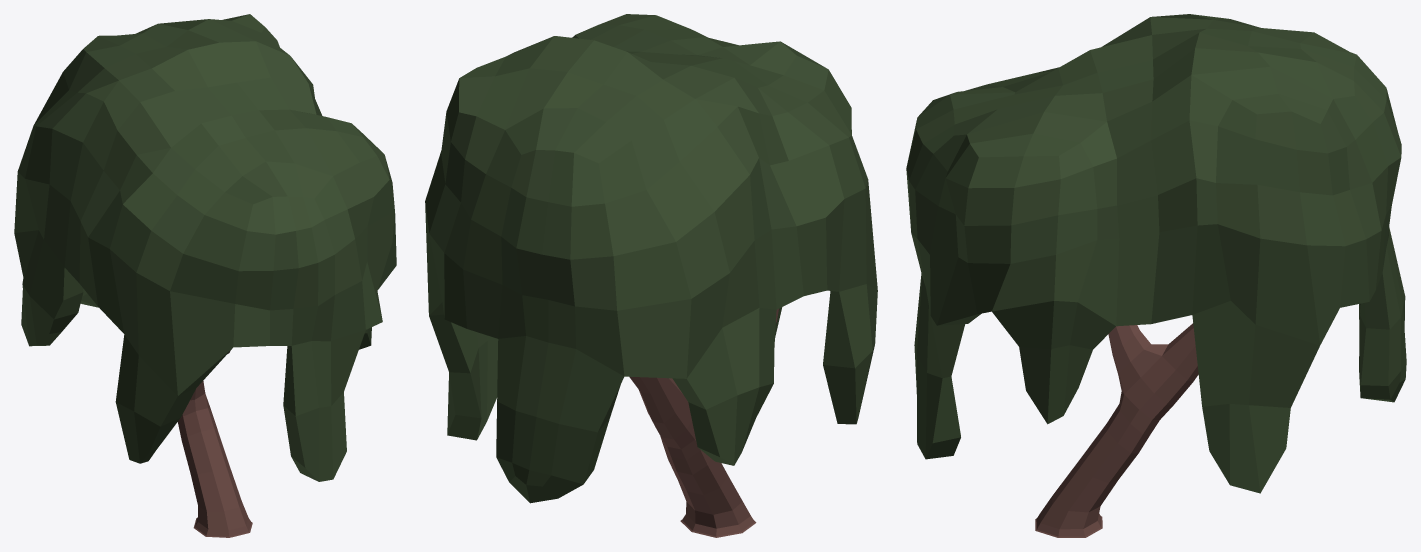
The model's file is Willow_4.glb.
3 views of the same model, side by side, from view 1: azimuth 30°, elevation 25°; view 2: azimuth 150°, elevation 25°; view 3: azimuth 270°, elevation 25° (orthographic). The views are drawn at different scales.
Parts seen in each view (by area): view 1: Willow_4_Cube.043; view 2: Willow_4_Cube.043; view 3: Willow_4_Cube.043.
Part boxes in pixels (x1=…): Willow_4_Cube.043: x1=14, y1=14, x2=396, y2=537; Willow_4_Cube.043: x1=425, y1=14, x2=877, y2=537; Willow_4_Cube.043: x1=906, y1=14, x2=1406, y2=537.
Bounding box in the file's own units: 2.19 × 3.39 × 3.04.
